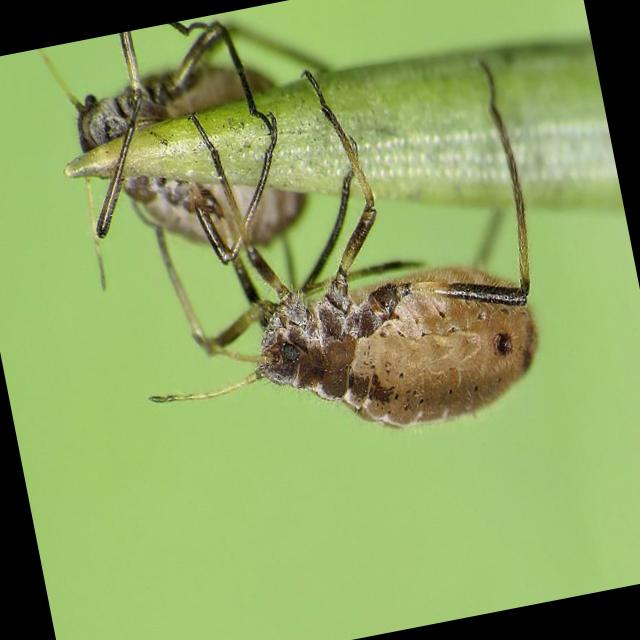Aphids: (120, 82, 578, 512)
